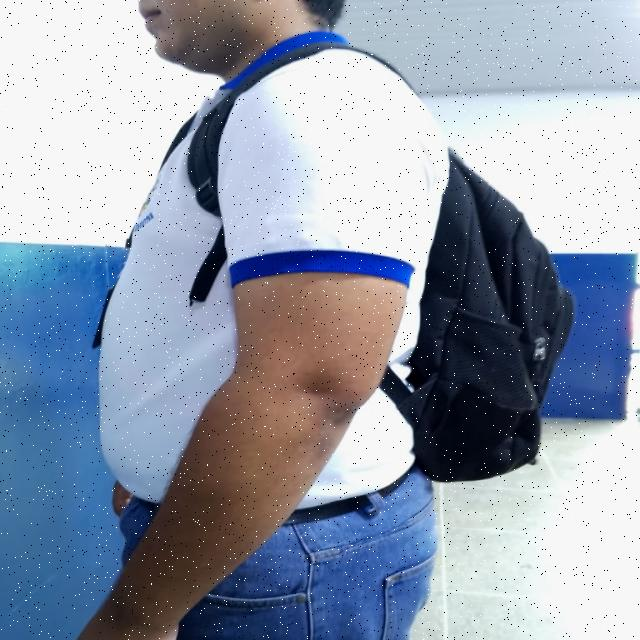uniforme_superior: (99, 32, 449, 509)
